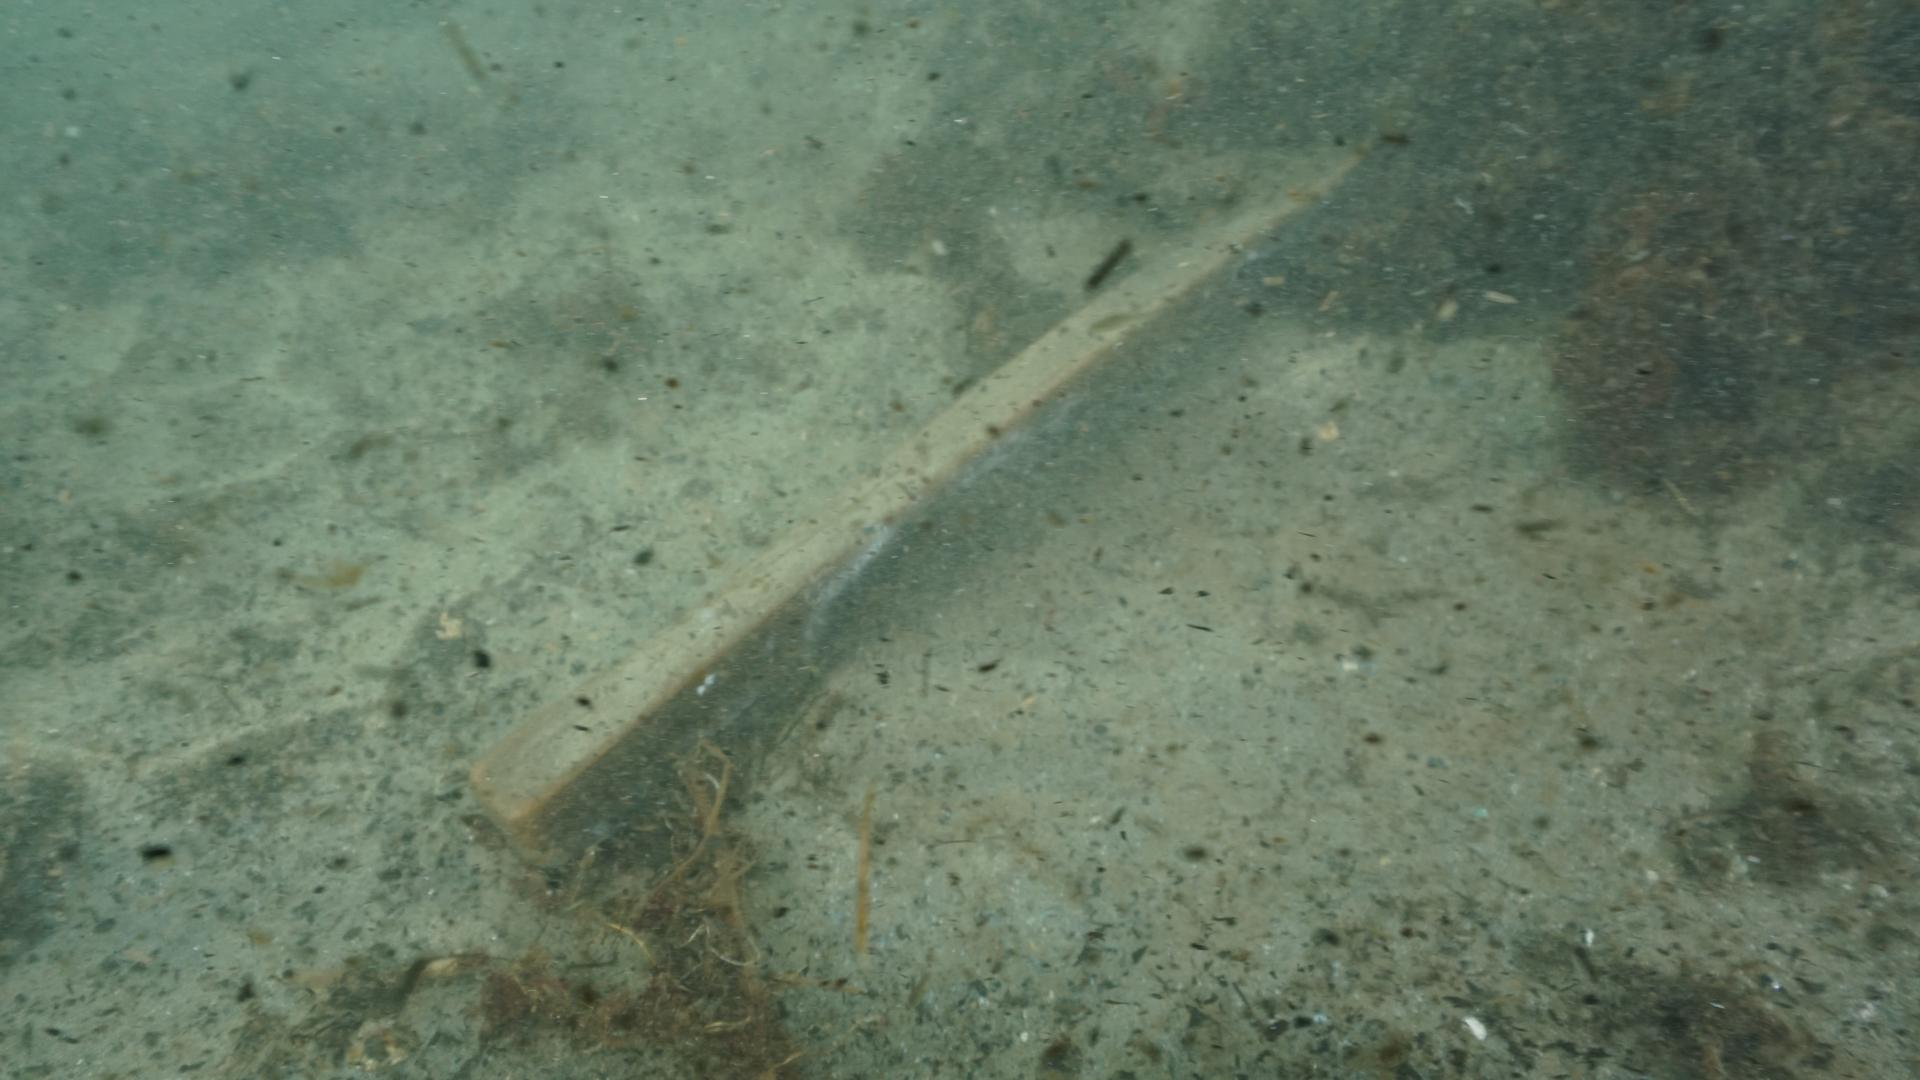wood: (467, 135, 1374, 865)
